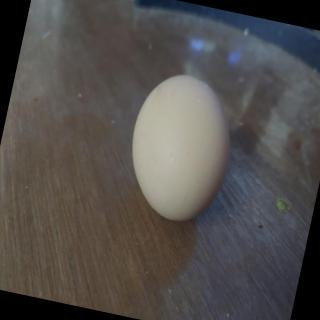Telur: (117, 65, 247, 231)
